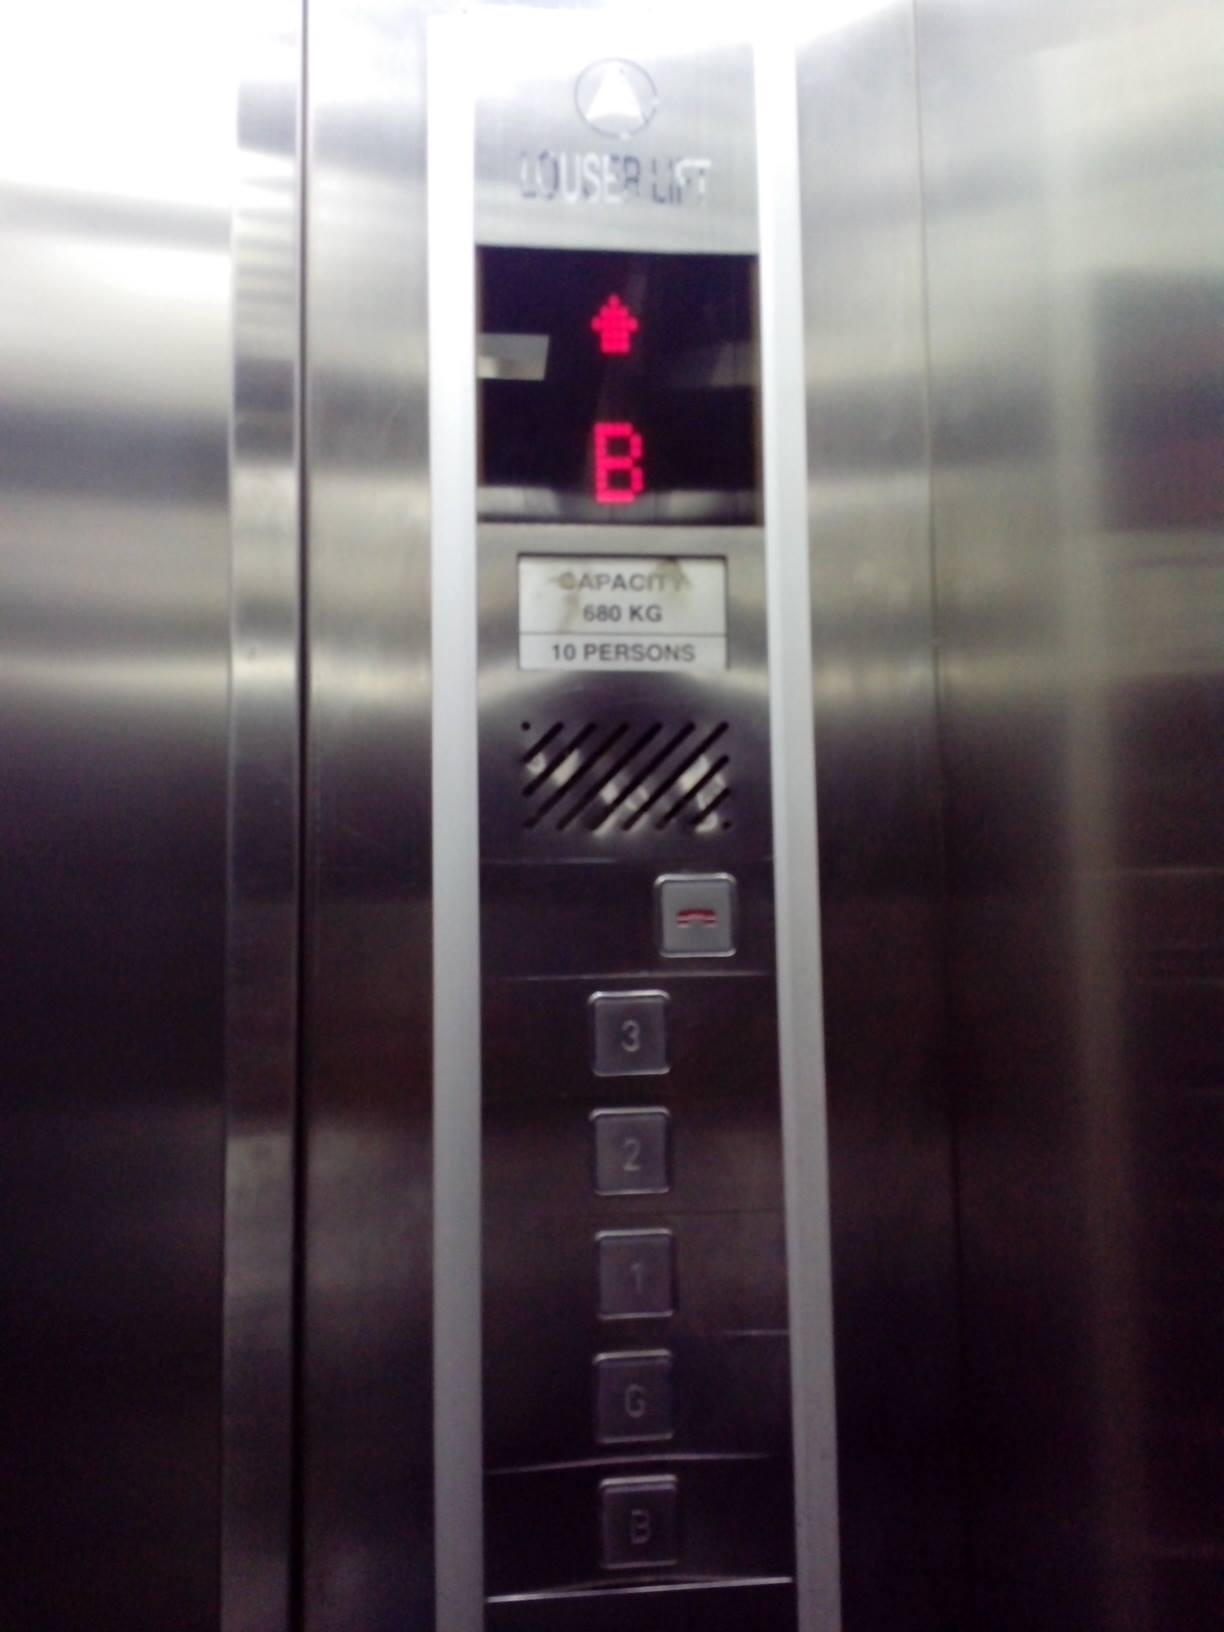1: (591, 1228, 678, 1324)
2: (588, 1108, 672, 1198)
3: (588, 989, 671, 1081)
B: (597, 1471, 681, 1572)
G: (591, 1349, 678, 1448)
call: (652, 873, 742, 965)
led: (474, 242, 765, 528)
